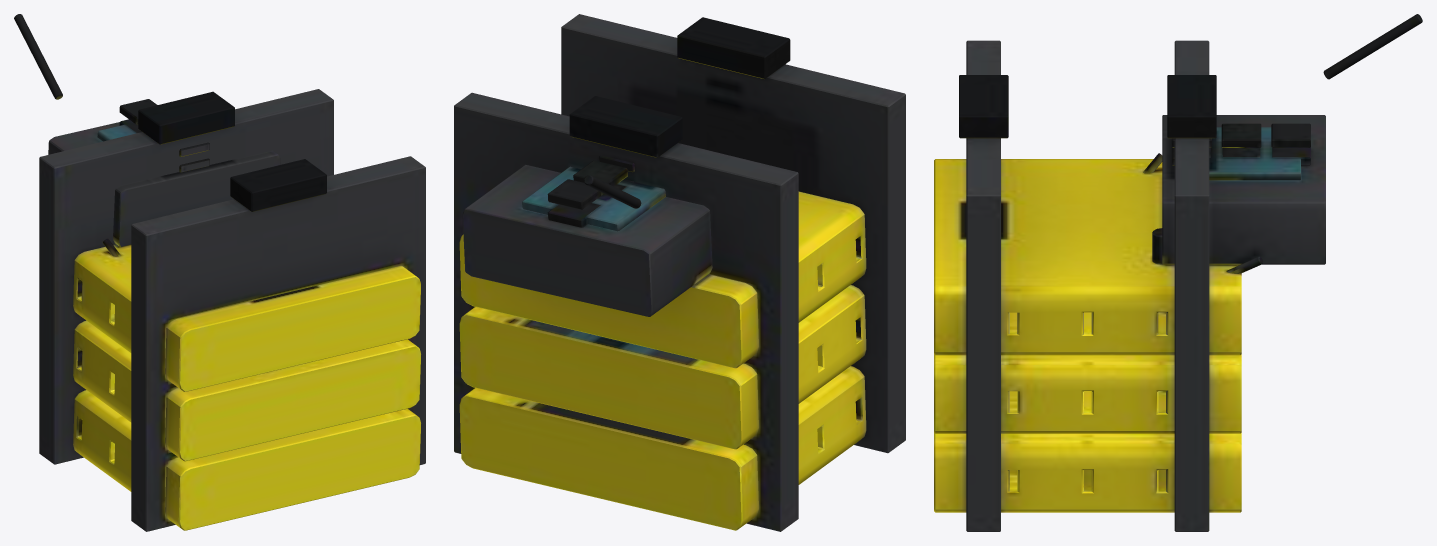
Rendered from EX_explosive_timed.glb.
The picture shows the model from 3 angles, left to right: view 1: azimuth 30°, elevation 25°; view 2: azimuth 150°, elevation 25°; view 3: azimuth 270°, elevation 25°; orthographic projection. The views are drawn at different scales.
Parts seen in each view (by area): view 1: EX_explosive_timed; view 2: EX_explosive_timed; view 3: EX_explosive_timed.
Boxes of the visible parts, <box> form: EX_explosive_timed: <box>14,14,425,531</box>; EX_explosive_timed: <box>454,14,905,531</box>; EX_explosive_timed: <box>934,14,1422,531</box>.
Size of the model in its own units: 0.148 by 0.1791 by 0.1971.
1 material, 1 textured.
